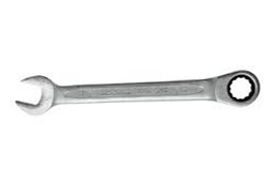wrench: (14, 63, 275, 121)
